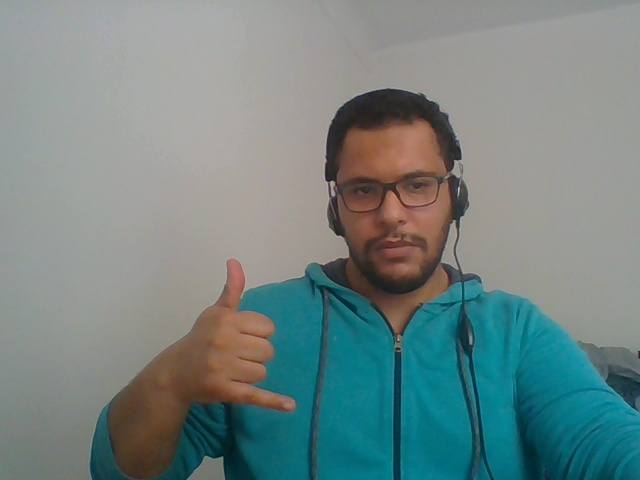callme: (138, 220, 307, 447)
